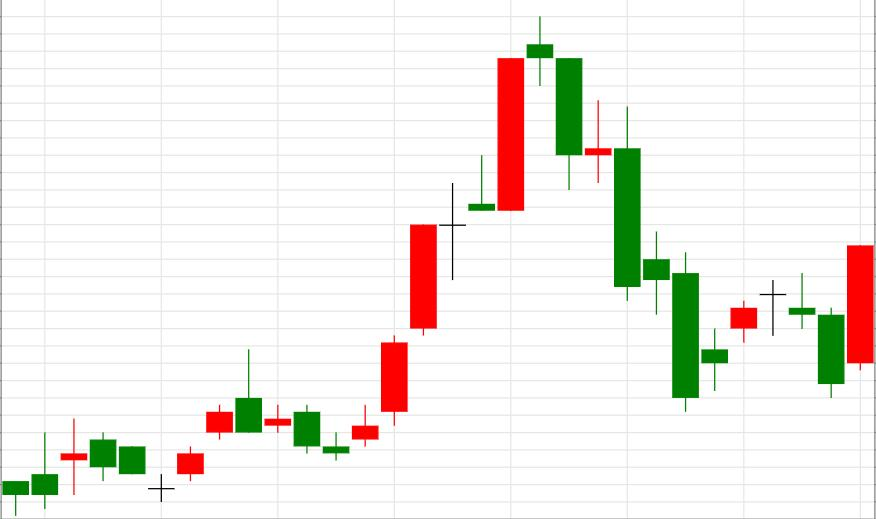evening_star_fall: (323, 15, 583, 459)
